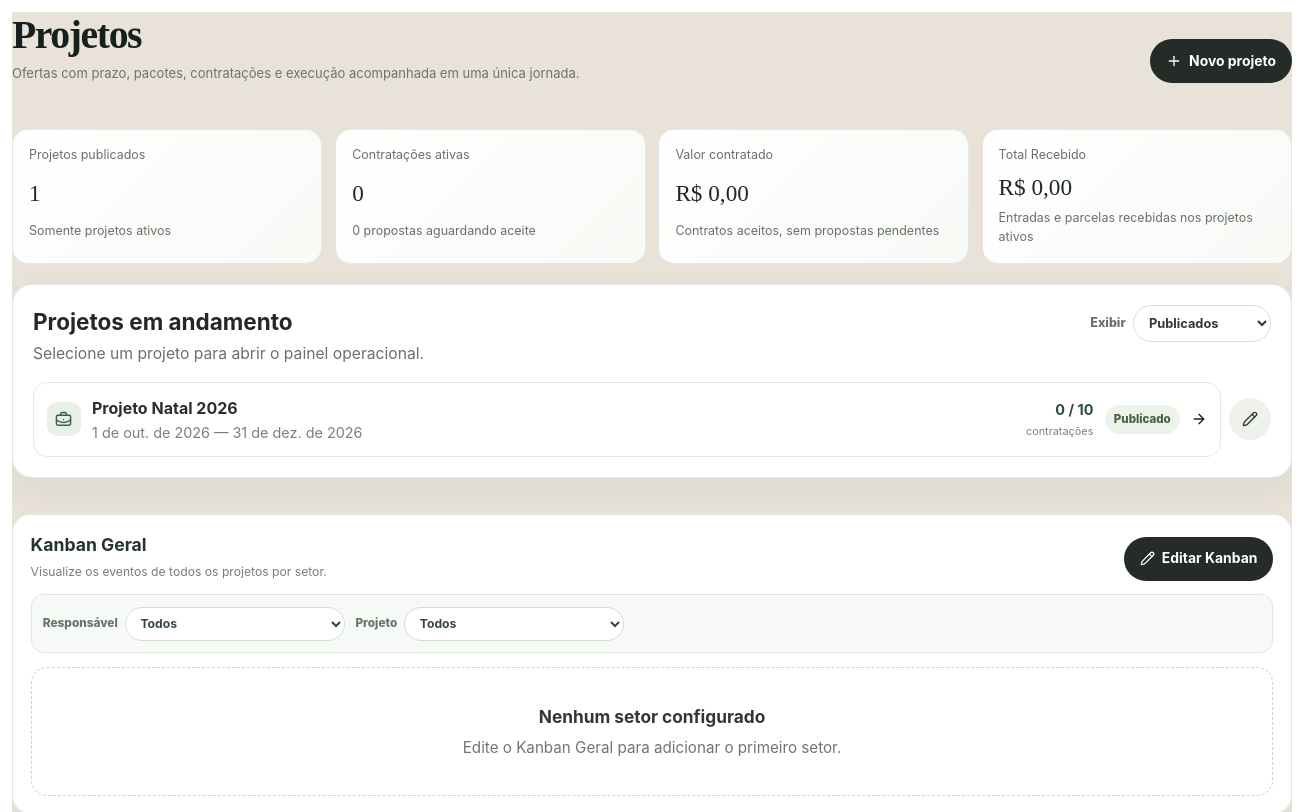
projects navigation › shows published projects by default and supports archived and all filters
Expected: the button with aria-label "Abrir projeto Projeto Natal 2026" is shown, [33,382,1221,456]
Select "Arquivados" in the dropdown named "Filtrar projetos": (1202, 324) [1133,305,1271,342]
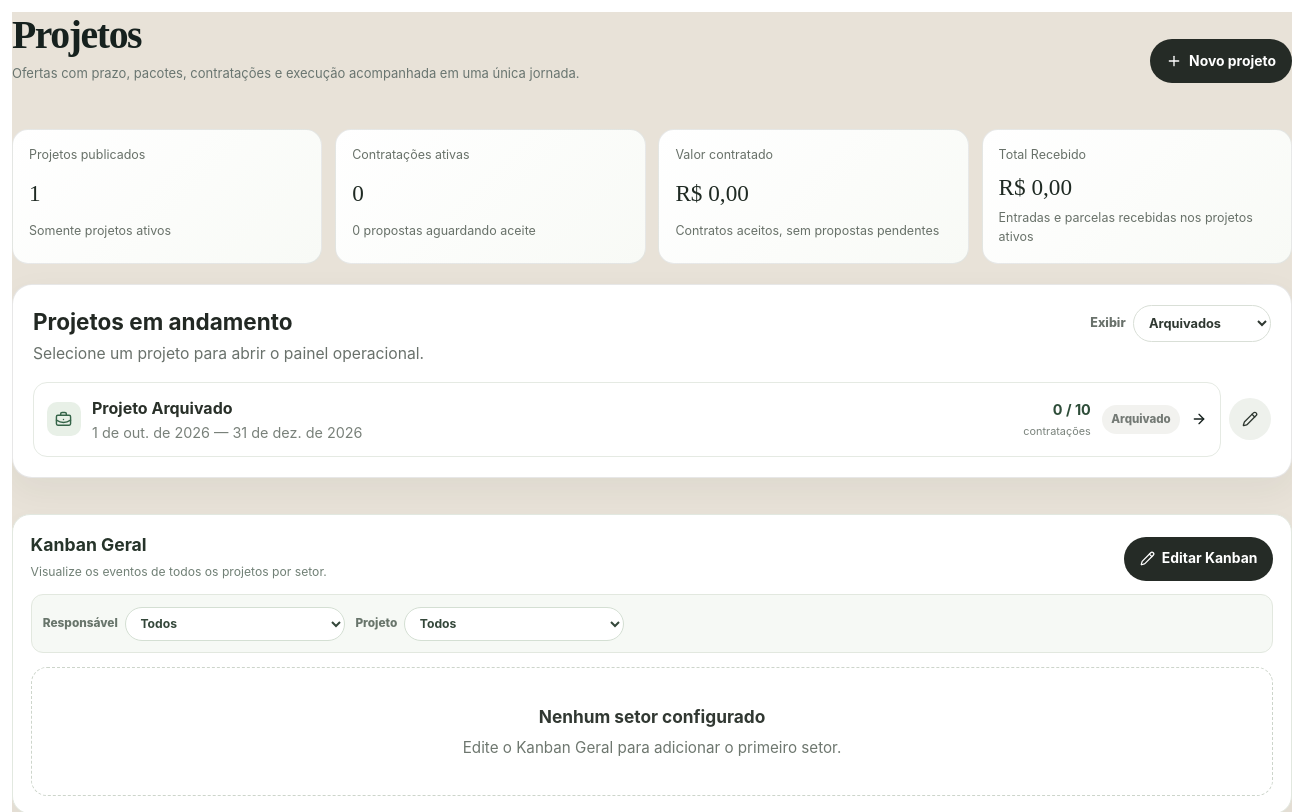
Expected: the button with aria-label "Abrir projeto Projeto Arquivado" is shown, [33,382,1221,456]
Select "Todos" in the dropdown named "Filtrar projetos": (1202, 324) [1133,305,1271,342]
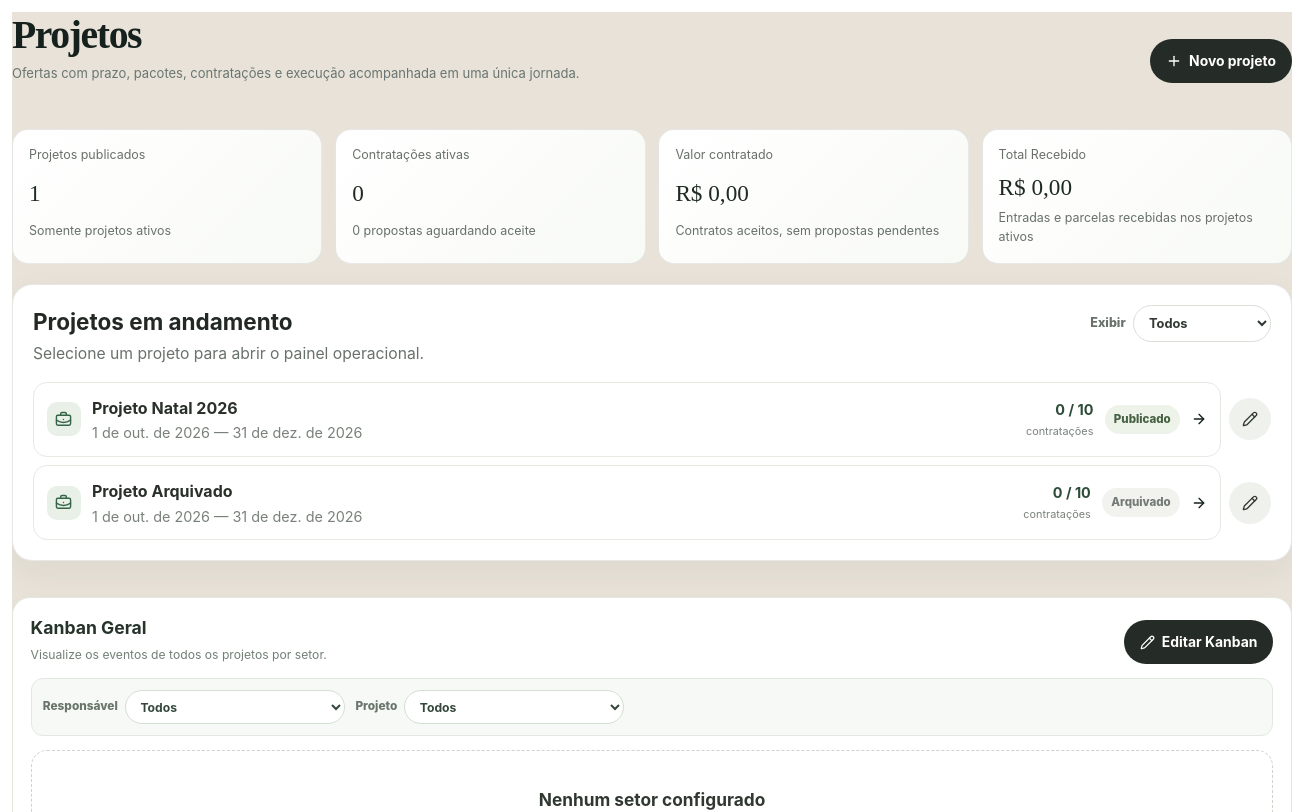
Expected: the button with aria-label "Abrir projeto Projeto Arquivado" is shown, [33,465,1221,540]
Expected: the button with aria-label "Abrir projeto Projeto Natal 2026" is shown, [33,382,1221,456]
